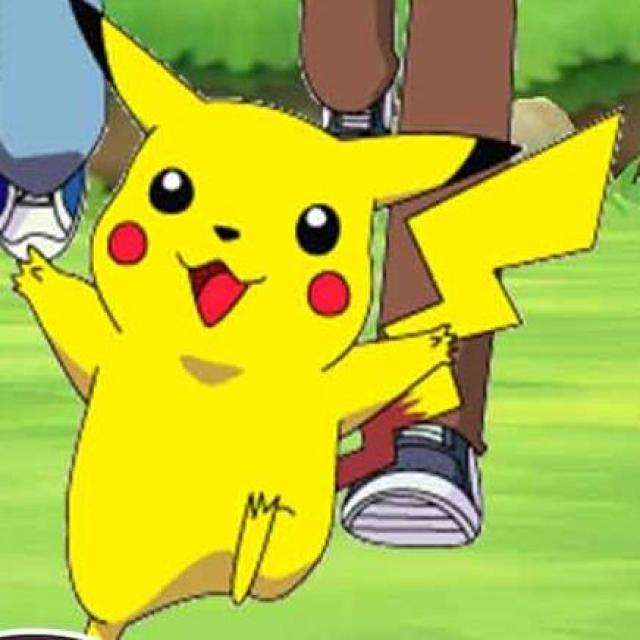pikachu: (12, 0, 620, 640)
